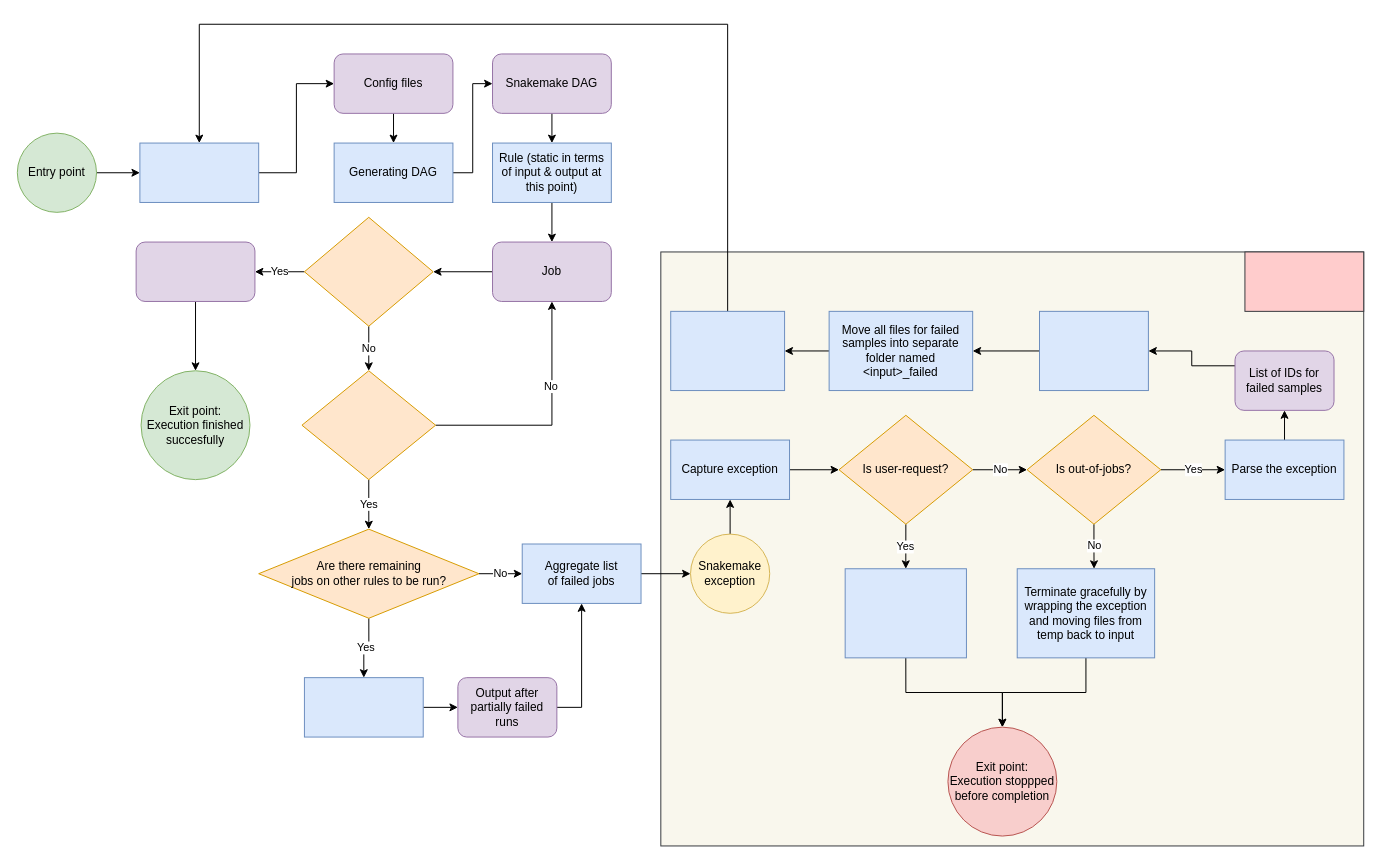
Some shapes in this 1381 by 863 pixel diagram are drawn without their labels. Here are the shapes that lost their labels. From the top down, the centre of each, then its label:
(x=199, y=172): Mapping inputs & outputs
(x=195, y=271): Succesful output
(x=368, y=271): Finished successfully?
(x=1304, y=281): To be developed
(x=727, y=350): Rerun the script on input folder without failed samples
(x=1093, y=350): Move files from temp back to input
(x=368, y=425): Is re-run counter exceeded the limit?
(x=905, y=613): Terminate gracefully and move files from temp back to input
(x=363, y=707): Run the remaining jobs
